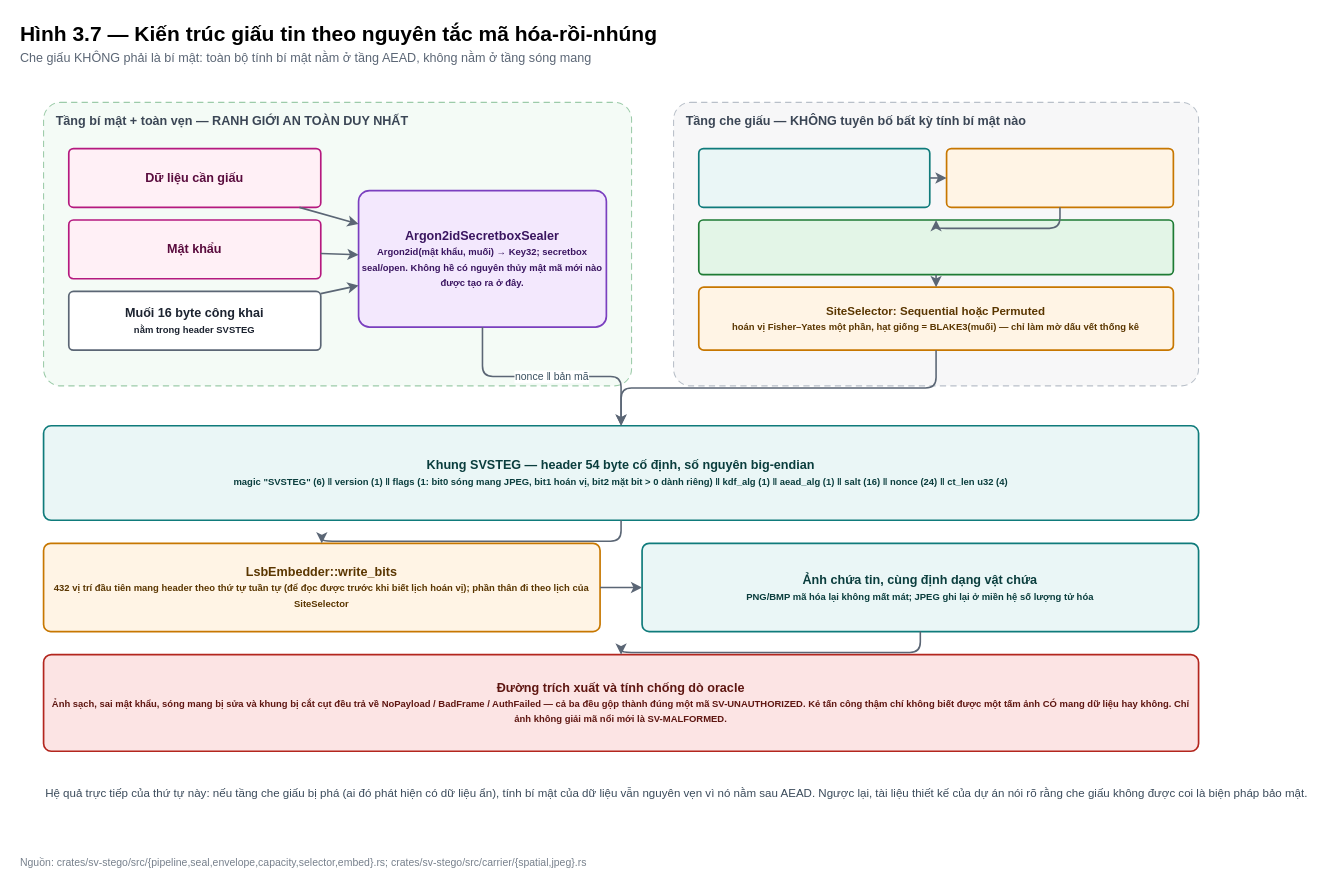
This 1325x887 diagram has some shape labels left out. Each missing label, with the centre of its shape:
"capacity::fits — chặn tải quá dung lượng TRƯỚC khi chạy Argon2id" belongs at (935,247).
"Carrier Spatial (LSB) hoặc Jpeg (hệ số DCT)" belongs at (1059,177).
"Ảnh bìa PNG / BMP / JPEG" belongs at (813,177).
